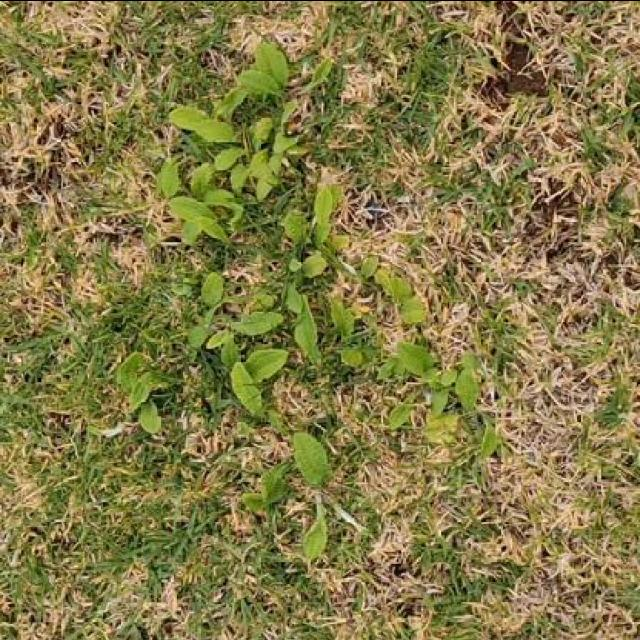weed: (175, 177, 504, 563), (157, 40, 335, 243), (117, 351, 177, 434)
